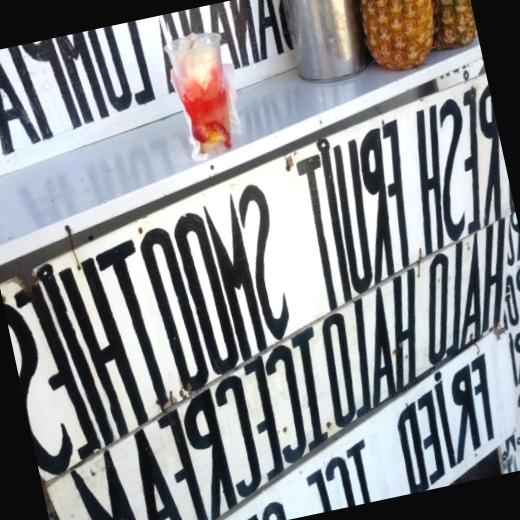Mango: (353, 0, 450, 74), (418, 0, 479, 51)
